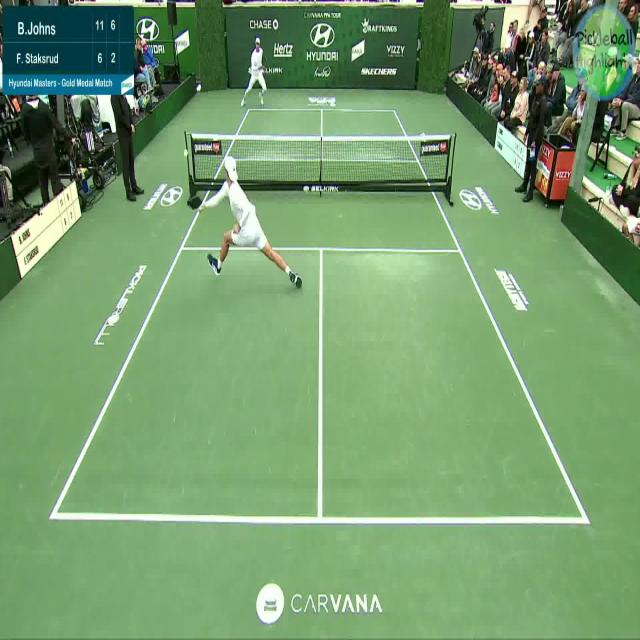ball: (182, 145, 192, 163)
